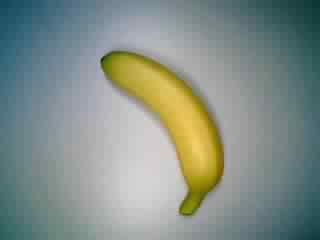banana: (97, 46, 234, 219)
